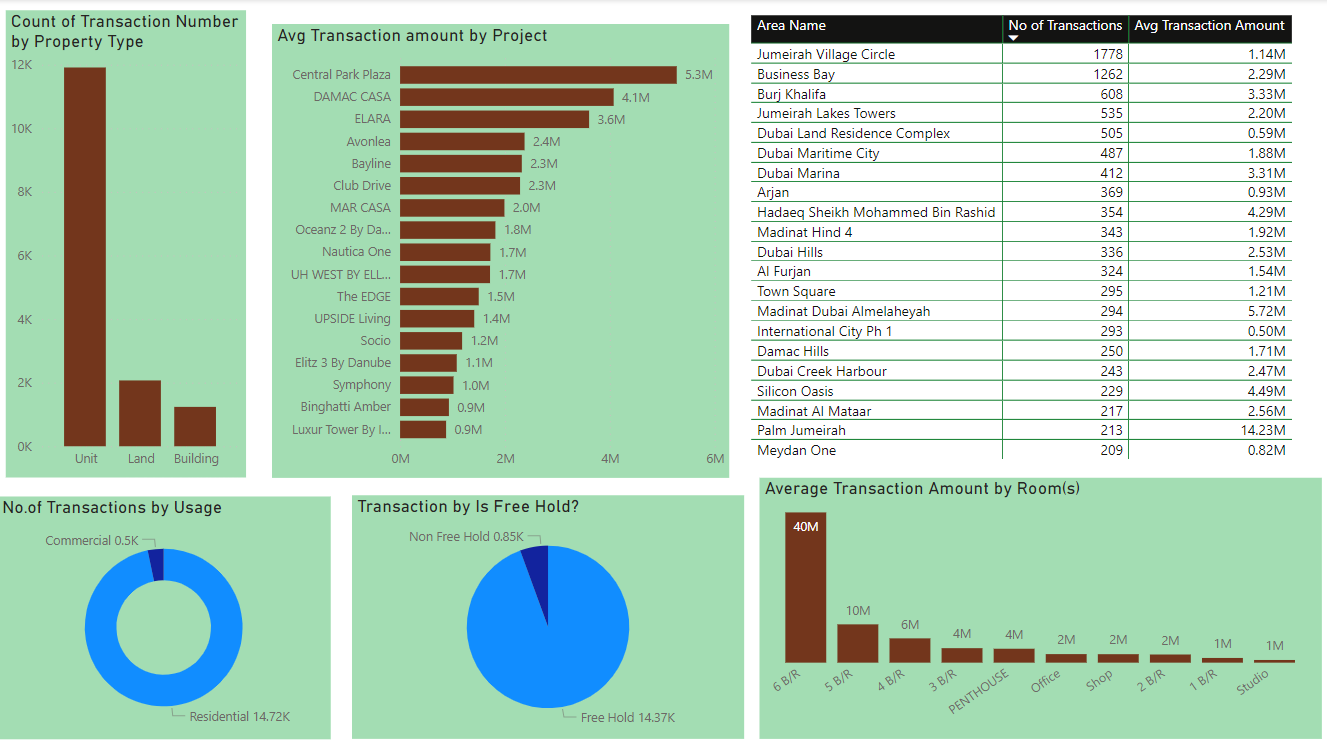

This screenshot's page, from the dashboard's own definition file:
{"tool":"powerbi","page":{"name":"Page 2","canvas":[1280,720],"ordinal":1},"visuals":[{"type":"pieChart","title":"Transaction by Is Free Hold?","fields":{"Category":["dld_data transactions_24.Is Free Hold?"],"Y":["CountNonNull(dld_data transactions_24.Transaction Number)"]},"box":[340.4,475.8,376.3,233.7],"z":0},{"type":"donutChart","title":"No.of Transactions by Usage","fields":{"Category":["dld_data transactions_24.Usage"],"Y":["CountNonNull(dld_data transactions_24.Transaction Number)"]},"box":[0,477,320,232.5],"z":1000},{"type":"columnChart","title":"Average Transaction Amount by Room(s)","fields":{"Category":["dld_data transactions_24.Room(s)"],"Y":["Avg(dld_data transactions_24.Amount)"]},"box":[731.1,459,539.3,250.5],"z":2000},{"type":"lineClusteredColumnComboChart","fields":{"Category":["dld_data transactions_24.Property Type"],"Y":["CountNonNull(dld_data transactions_24.Transaction Number)"]},"box":[8.4,10.8,230.1,448.2],"z":3000},{"type":"tableEx","fields":{"Values":["dld_data transactions_24.Area Name","CountNonNull(dld_data transactions_24.Transaction Number)","Sum(dld_data transactions_24.Amount)"]},"box":[716.7,10.8,563.3,435.1],"z":4000},{"type":"barChart","title":"Avg Transaction amount by Project","fields":{"Category":["dld_data transactions_24.Project"],"Y":["Avg(dld_data transactions_24.Transaction Amount)"]},"box":[263.7,24,438.7,435.1],"z":4001}]}

Visuals, with their boxes in screenshot pixels (x1, y1, x2, y2), scaled from the page's 1280x720 canvas onto the 1327x750 screenshot:
"Transaction by Is Free Hold?" pieChart: (x1=353, y1=496, x2=743, y2=739)
"No.of Transactions by Usage" donutChart: (x1=0, y1=497, x2=332, y2=739)
"Average Transaction Amount by Room(s)" columnChart: (x1=758, y1=478, x2=1317, y2=739)
lineClusteredColumnComboChart - dld_data transactions_24.Property Type x CountNonNull(dld_data transactions_24.Transaction Number): (x1=9, y1=11, x2=247, y2=478)
tableEx - dld_data transactions_24.Area Name x CountNonNull(dld_data transactions_24.Transaction Number): (x1=743, y1=11, x2=1326, y2=464)
"Avg Transaction amount by Project" barChart: (x1=273, y1=25, x2=728, y2=478)
